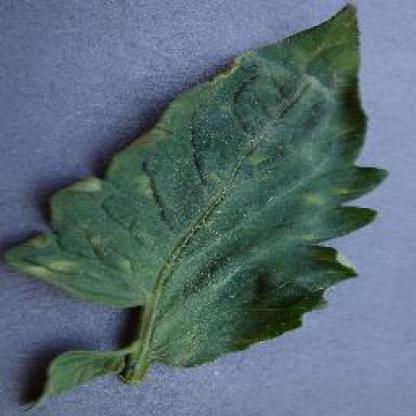Tomato_Leaf_Mold: (4, 3, 384, 366)
